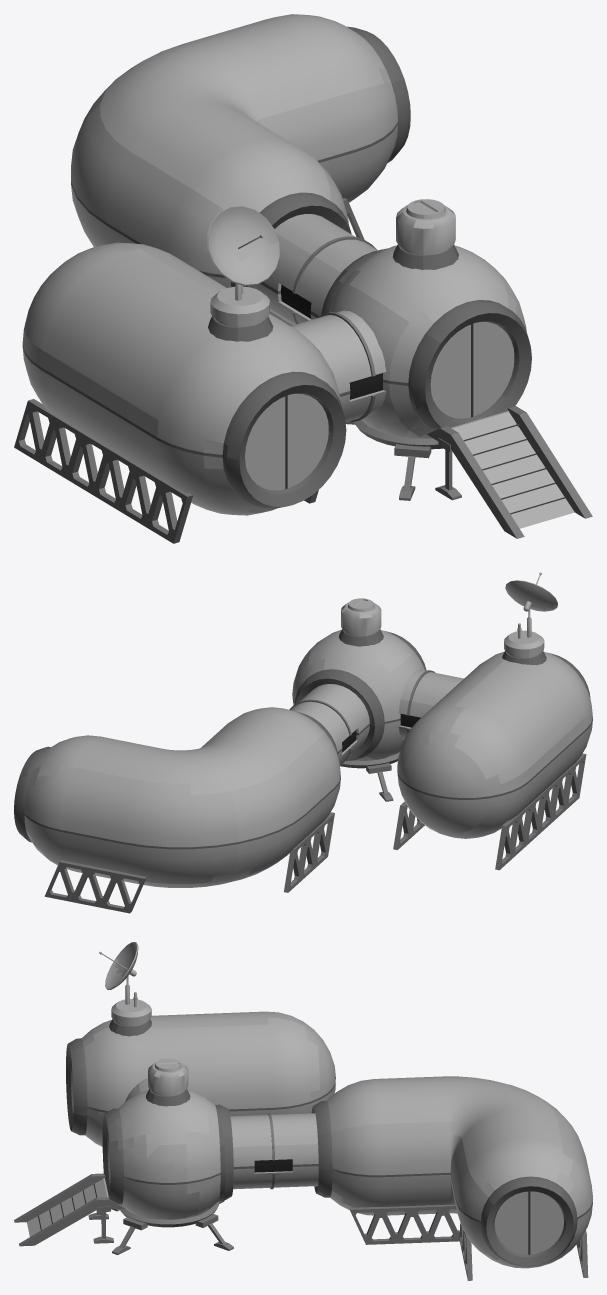
File: Airlock.fbx
3 views of the same model, one above another, from view 1: azimuth 30°, elevation 25°; view 2: azimuth 150°, elevation 25°; view 3: azimuth 270°, elevation 25° (orthographic). The views are drawn at different scales.
Visible parts, largest first — view 1: Connected_Habitat; view 2: Connected_Habitat; view 3: Connected_Habitat.
Boxes of the visible parts, x1,y1,x2,y2 form: Connected_Habitat: [14, 14, 592, 543]; Connected_Habitat: [14, 572, 592, 913]; Connected_Habitat: [14, 942, 592, 1280].
Bounding box in the file's own units: 1219 × 679 × 1689.
Materials: 1 (1 with a texture image).
